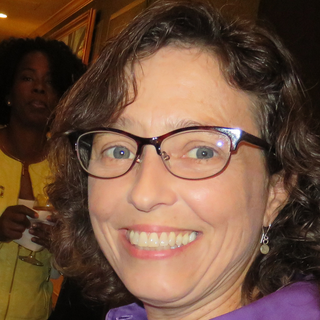eye: (177, 142, 224, 164), (99, 142, 136, 163)
